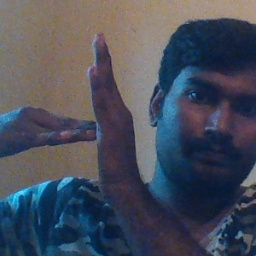Z: (22, 27, 141, 187)
